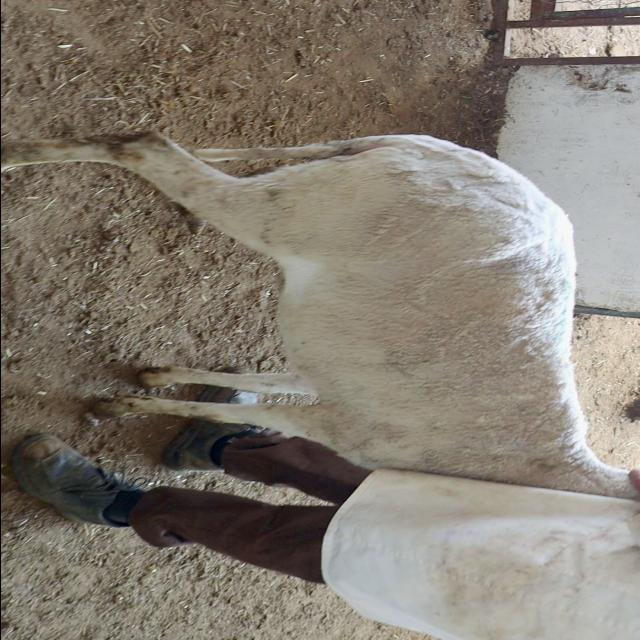Score_3: (1, 132, 636, 499)
